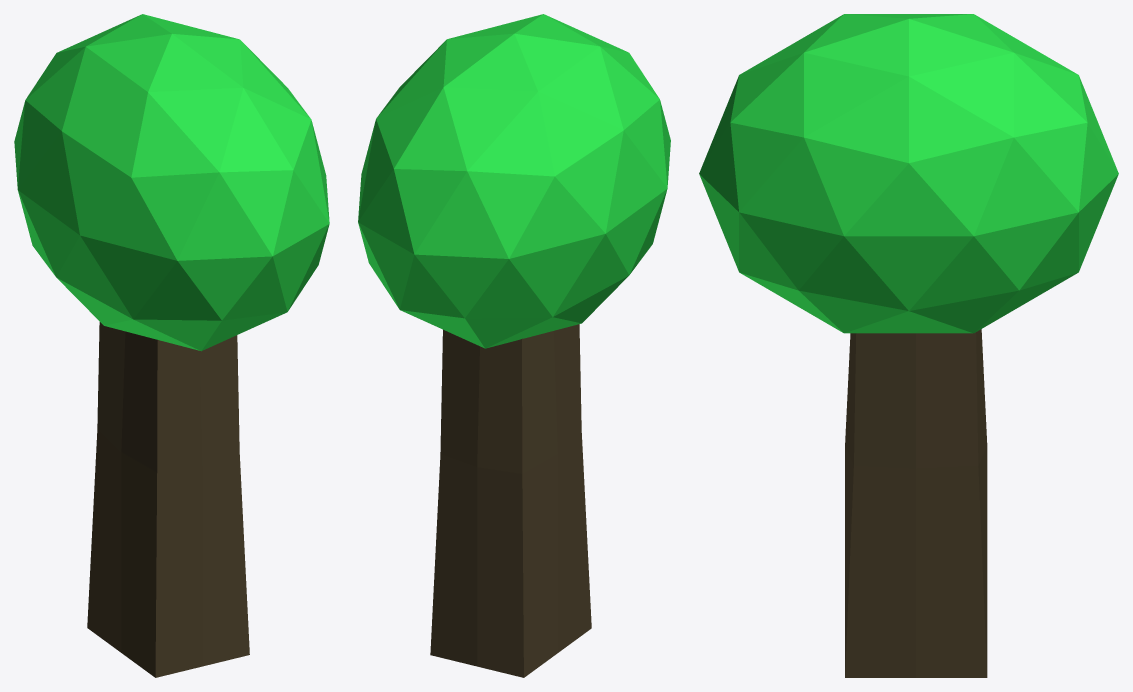
Rendered from tree2.glb.
3 views of the same model, side by side, from view 1: azimuth 30°, elevation 25°; view 2: azimuth 150°, elevation 25°; view 3: azimuth 270°, elevation 25° (orthographic). The views are drawn at different scales.
Visible parts, largest first — view 1: Icosphere; view 2: Icosphere; view 3: Icosphere.
Boxes of the visible parts, left/top/right/bottom form: Icosphere: left=14, top=14, right=329, bottom=677; Icosphere: left=358, top=14, right=670, bottom=677; Icosphere: left=699, top=14, right=1118, bottom=677.
Size of the model in its own units: 4.04 by 9.56 by 5.73.
